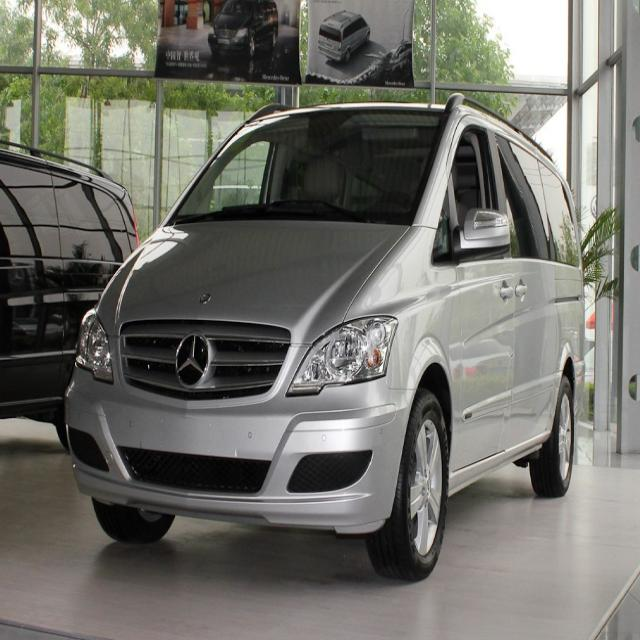front_bumper: (64, 361, 418, 537)
front_glass: (162, 108, 448, 229)
front_left_side_door: (442, 104, 517, 480)
front_left_side_light: (284, 313, 400, 399)
front_left_side_mirror: (453, 208, 511, 264)
front_right_side_light: (72, 304, 115, 386)
wheel: (368, 390, 448, 580), (530, 376, 574, 496)
